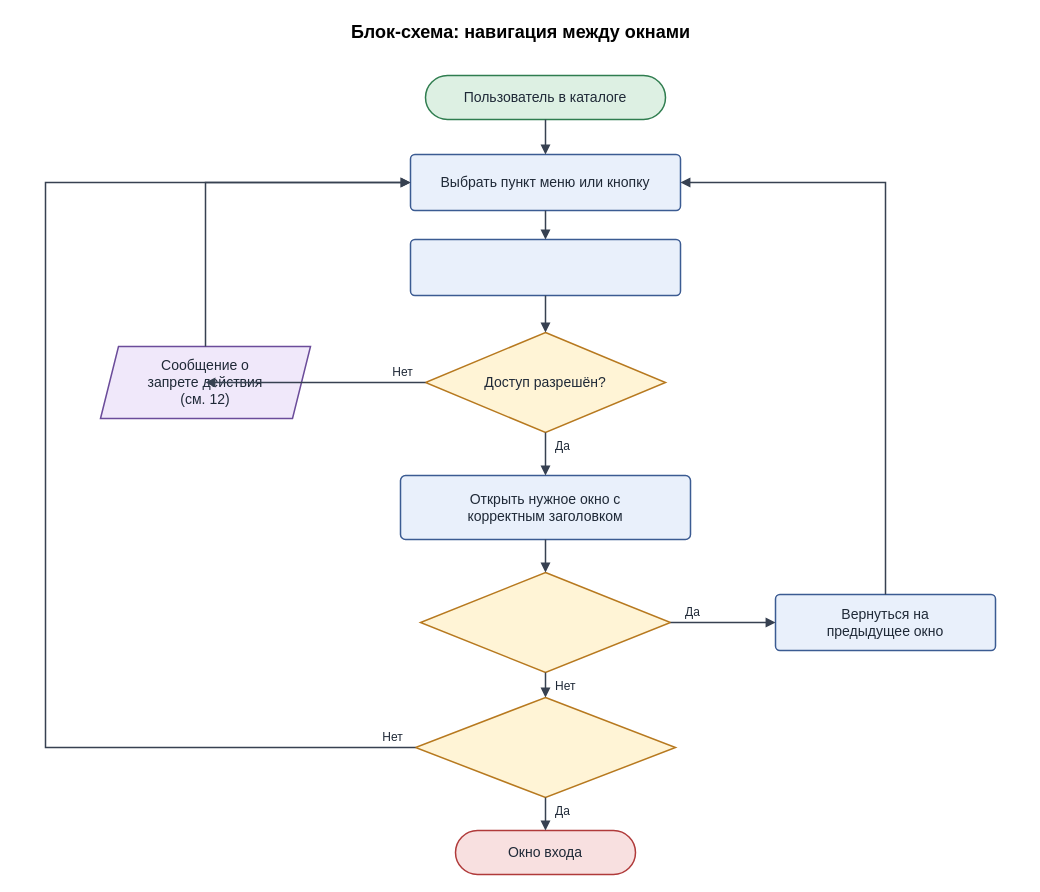
The diagram is 1040 pixels wide and 892 high, and some of its shapes have lost their labels. The shapes that lost their labels are listed below. From the top down, each one's box as (x1, y1, x2, y2) in pixels, then its label:
(409, 238, 681, 296): Проверить право доступа по роли
(419, 571, 671, 673): Нажата кнопка «Назад»?
(414, 696, 676, 798): Нажата команда «Выйти»?
